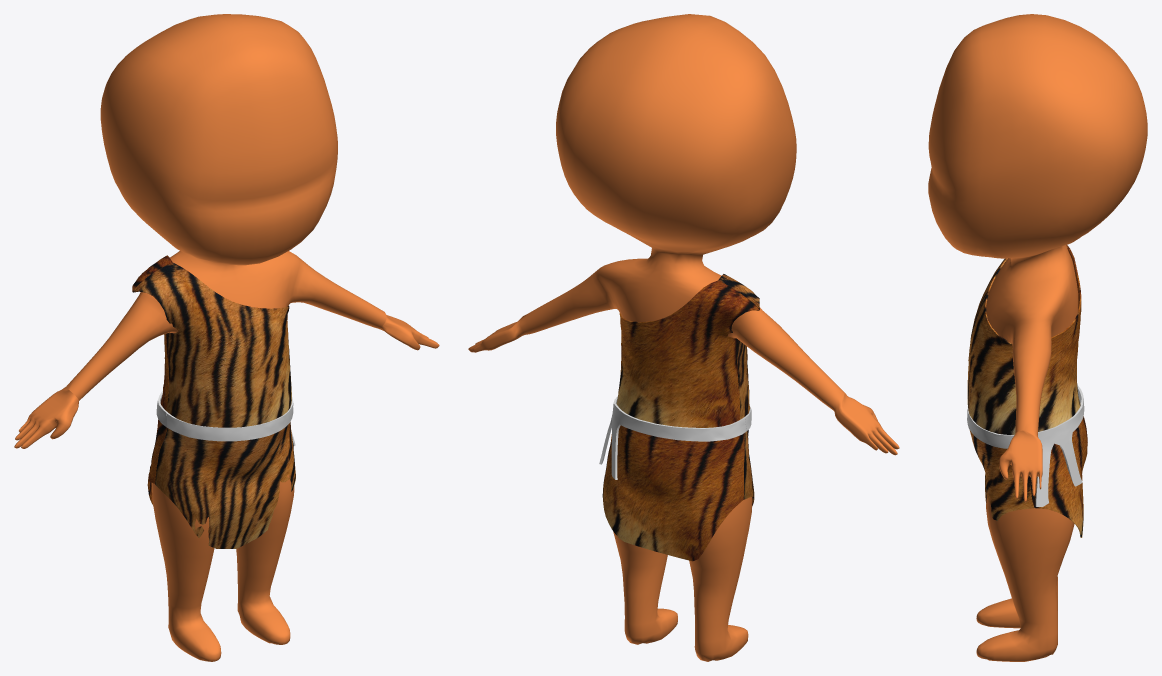
File: Human_Basic_2.fbx
3 views of the same model, side by side, from view 1: azimuth 30°, elevation 25°; view 2: azimuth 150°, elevation 25°; view 3: azimuth 270°, elevation 25° (orthographic).
Visible parts, largest first — view 1: Cylinder003, Line001, Line002, Line004; view 2: Cylinder003, Line001, Line002, Line004; view 3: Cylinder003, Line001, Line002, Line004.
Part boxes in pixels (box(x1,y1,x2,y2)): Cylinder003: box(14, 14, 439, 661); Line001: box(132, 255, 291, 427); Line002: box(147, 419, 295, 548); Line004: box(156, 390, 295, 445); Cylinder003: box(468, 14, 899, 661); Line001: box(616, 274, 759, 427); Line002: box(602, 425, 754, 561); Line004: box(599, 396, 751, 479); Cylinder003: box(928, 14, 1147, 661); Line001: box(967, 245, 1081, 434); Line002: box(969, 416, 1087, 537); Line004: box(967, 385, 1084, 506).
Size of the model in its own units: 55.87 by 77.26 by 25.08.
2 materials, 1 textured.
